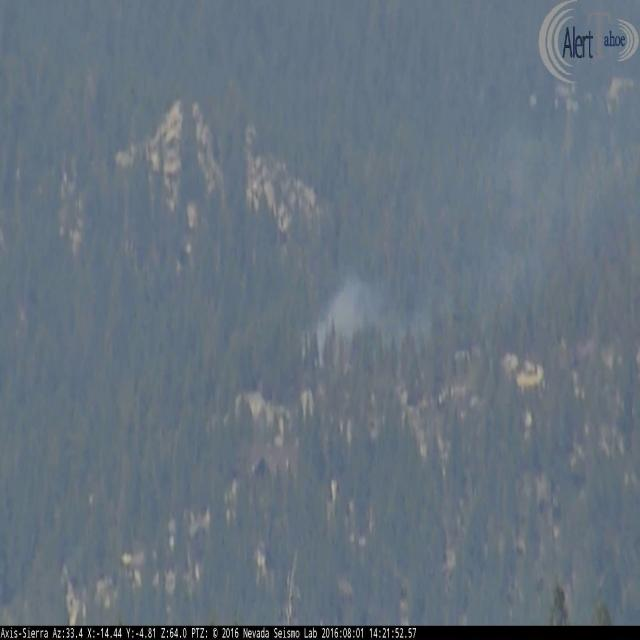smoke: (317, 282, 423, 358)
